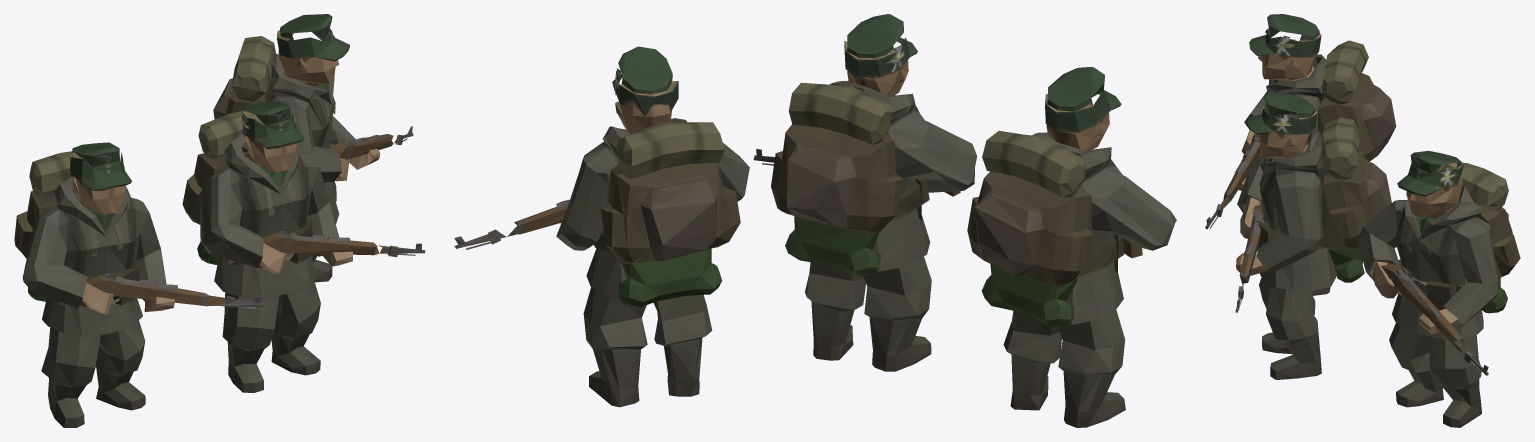
File: bulge_german_mountain.glb
3 renders of one model, left to right at view 1: azimuth 30°, elevation 25°; view 2: azimuth 150°, elevation 25°; view 3: azimuth 270°, elevation 25°, orthographic. The views are drawn at different scales.
Visible parts, largest first — view 1: figura; view 2: figura; view 3: figura.
Part boxes in pixels (x1,y1,x2,y2): figura: (14, 14, 425, 427); figura: (454, 14, 1176, 427); figura: (1205, 14, 1520, 427).
Bounding box in the file's own units: 1.15 × 0.6144 × 0.665.
1 material, 1 textured.
